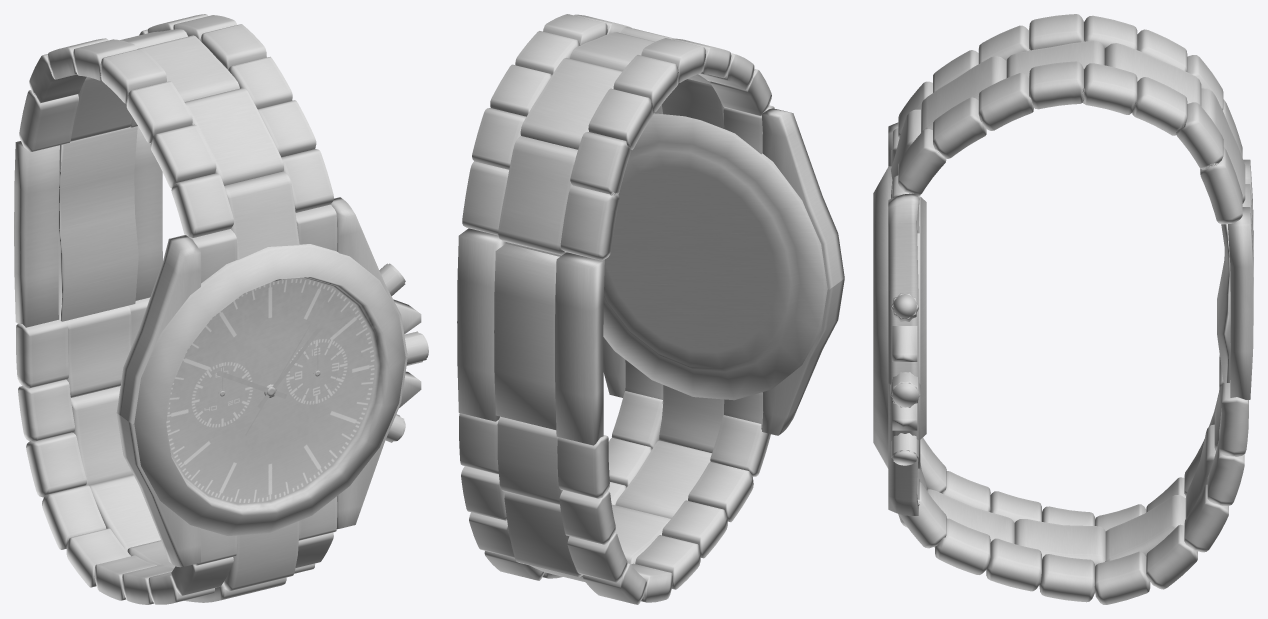
The picture shows the model from 3 angles, left to right: view 1: azimuth 30°, elevation 25°; view 2: azimuth 150°, elevation 25°; view 3: azimuth 270°, elevation 25°; orthographic projection. The views are drawn at different scales.
Visible parts, largest first — view 1: polySurface2, pPlane10, pCube52, polySurface8, pCube118, pCube1, pCube117, pCube111, pCube83, polySurface9, pCube115, pCube145 (+35 smaller); view 2: polySurface2, pPlane10, pCube116, pCube112, polySurface8, pCube118, pCube113, pCube117, pCube154, polySurface9, pCube83, pCube153 (+33 smaller); view 3: polySurface2, pPlane10, polySurface3, pCube114, pCube115, pCube52, pCube112, pCube122, pCube123, pCube130, pCube131, pCube129 (+34 smaller).
Boxes of the visible parts, <box> form: polySurface2: <box>125,244,405,535</box>; pPlane10: <box>14,126,162,327</box>; pCube52: <box>184,88,283,185</box>; polySurface8: <box>116,235,200,424</box>; pCube118: <box>66,305,130,397</box>; pCube1: <box>224,171,299,281</box>; pCube117: <box>71,386,133,485</box>; pCube111: <box>137,35,239,101</box>; pCube83: <box>223,521,299,591</box>; polySurface9: <box>116,413,200,567</box>; pCube115: <box>89,474,160,551</box>; pCube145: <box>16,319,68,388</box>; polySurface2: <box>603,113,827,400</box>; pPlane10: <box>457,228,604,445</box>; pCube116: <box>498,136,577,255</box>; pCube112: <box>520,58,622,149</box>; polySurface8: <box>761,108,844,289</box>; pCube118: <box>497,416,562,504</box>; pCube113: <box>615,440,711,518</box>; pCube117: <box>504,492,582,577</box>; pCube154: <box>560,185,619,260</box>; polySurface9: <box>762,279,844,435</box>; pCube83: <box>659,385,724,452</box>; pCube153: <box>570,132,631,195</box>; polySurface2: <box>873,166,926,469</box>; pPlane10: <box>1217,159,1253,399</box>; polySurface3: <box>888,193,918,383</box>; pCube114: <box>1014,519,1105,566</box>; pCube115: <box>1105,495,1185,561</box>; pCube52: <box>921,56,1006,132</box>; pCube112: <box>1104,43,1201,105</box>; pCube122: <box>1029,61,1084,109</box>; pCube123: <box>1082,63,1137,114</box>; pCube130: <box>1039,554,1095,602</box>; pCube131: <box>1094,551,1150,604</box>; pCube129: <box>986,538,1041,591</box>.
Size of the model in its own units: 4.79 by 8.27 by 5.43.
2 materials, 2 textured.
